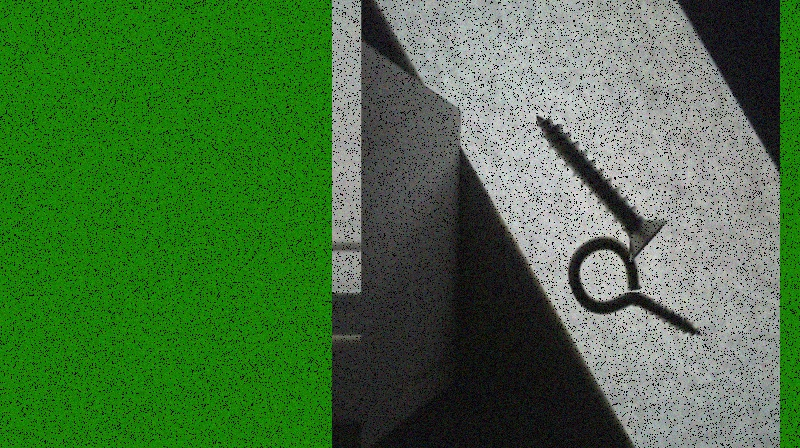O001: (564, 232, 705, 339)
S001: (537, 109, 666, 257)
